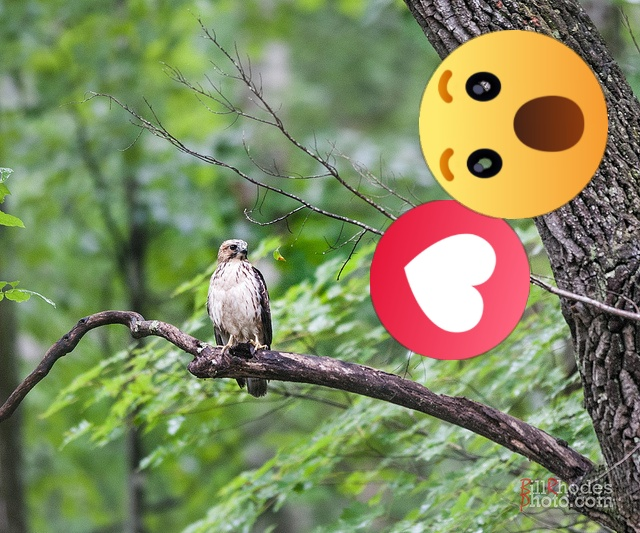love: (370, 200, 530, 360)
wow: (419, 30, 608, 219)
